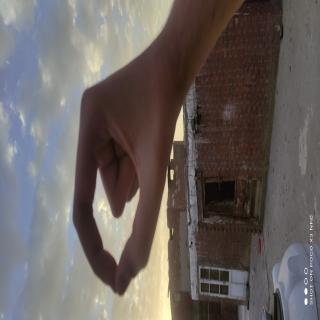FAA: (9, 151, 131, 320)
